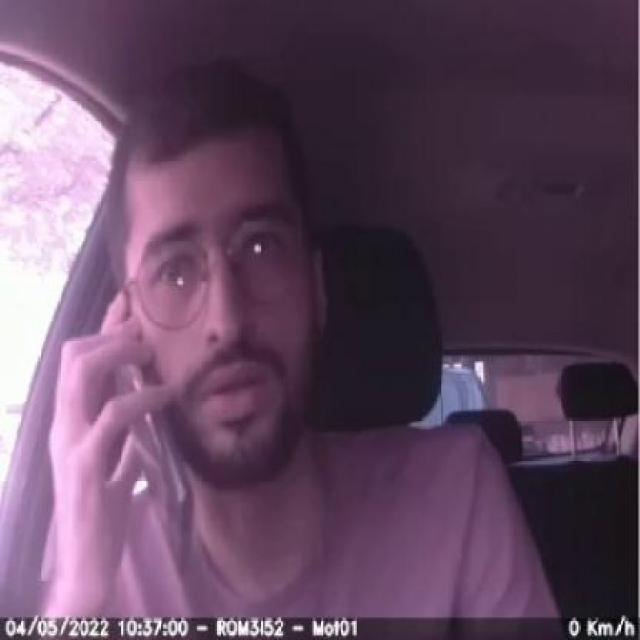using_phone: (39, 298, 201, 561)
